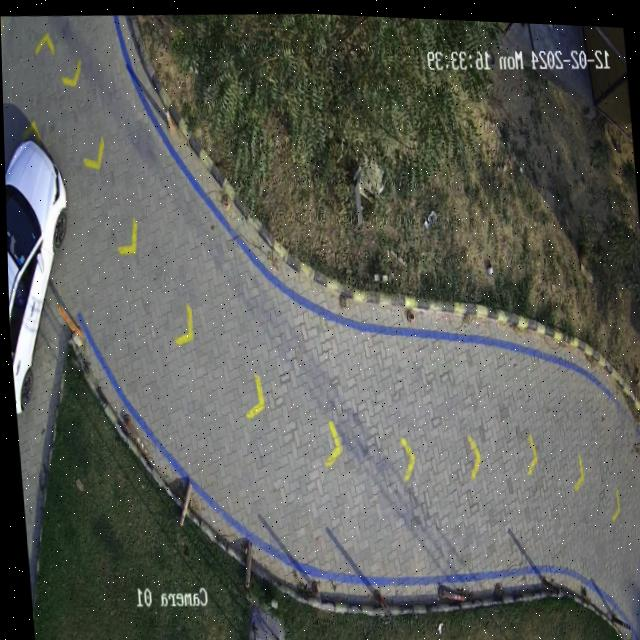car: (4, 140, 65, 413)
